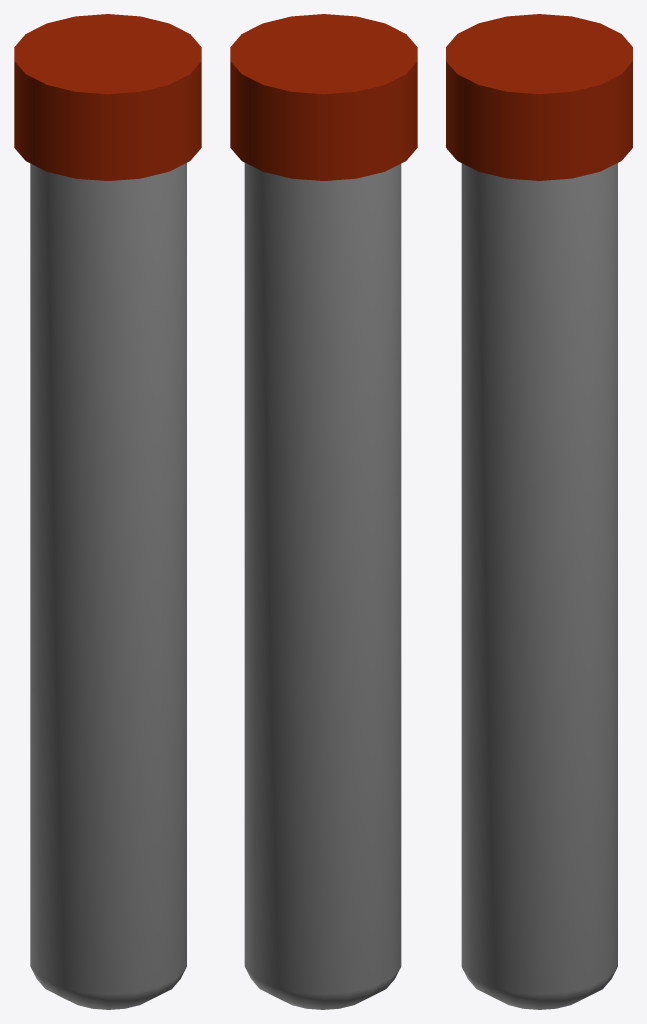
The model's file is Tube samples.FBX.
3 views of the same model, side by side, from view 1: azimuth 30°, elevation 25°; view 2: azimuth 150°, elevation 25°; view 3: azimuth 270°, elevation 25° (orthographic).
Visible parts, largest first — view 1: tube samples; view 2: tube samples; view 3: tube samples.
Part boxes in pixels (box(x1,y1,x2,y2)): tube samples: box(14, 14, 201, 1009); tube samples: box(230, 14, 417, 1009); tube samples: box(446, 14, 632, 1009).
Size of the model in its own units: 32.96 by 32.46 by 179.
